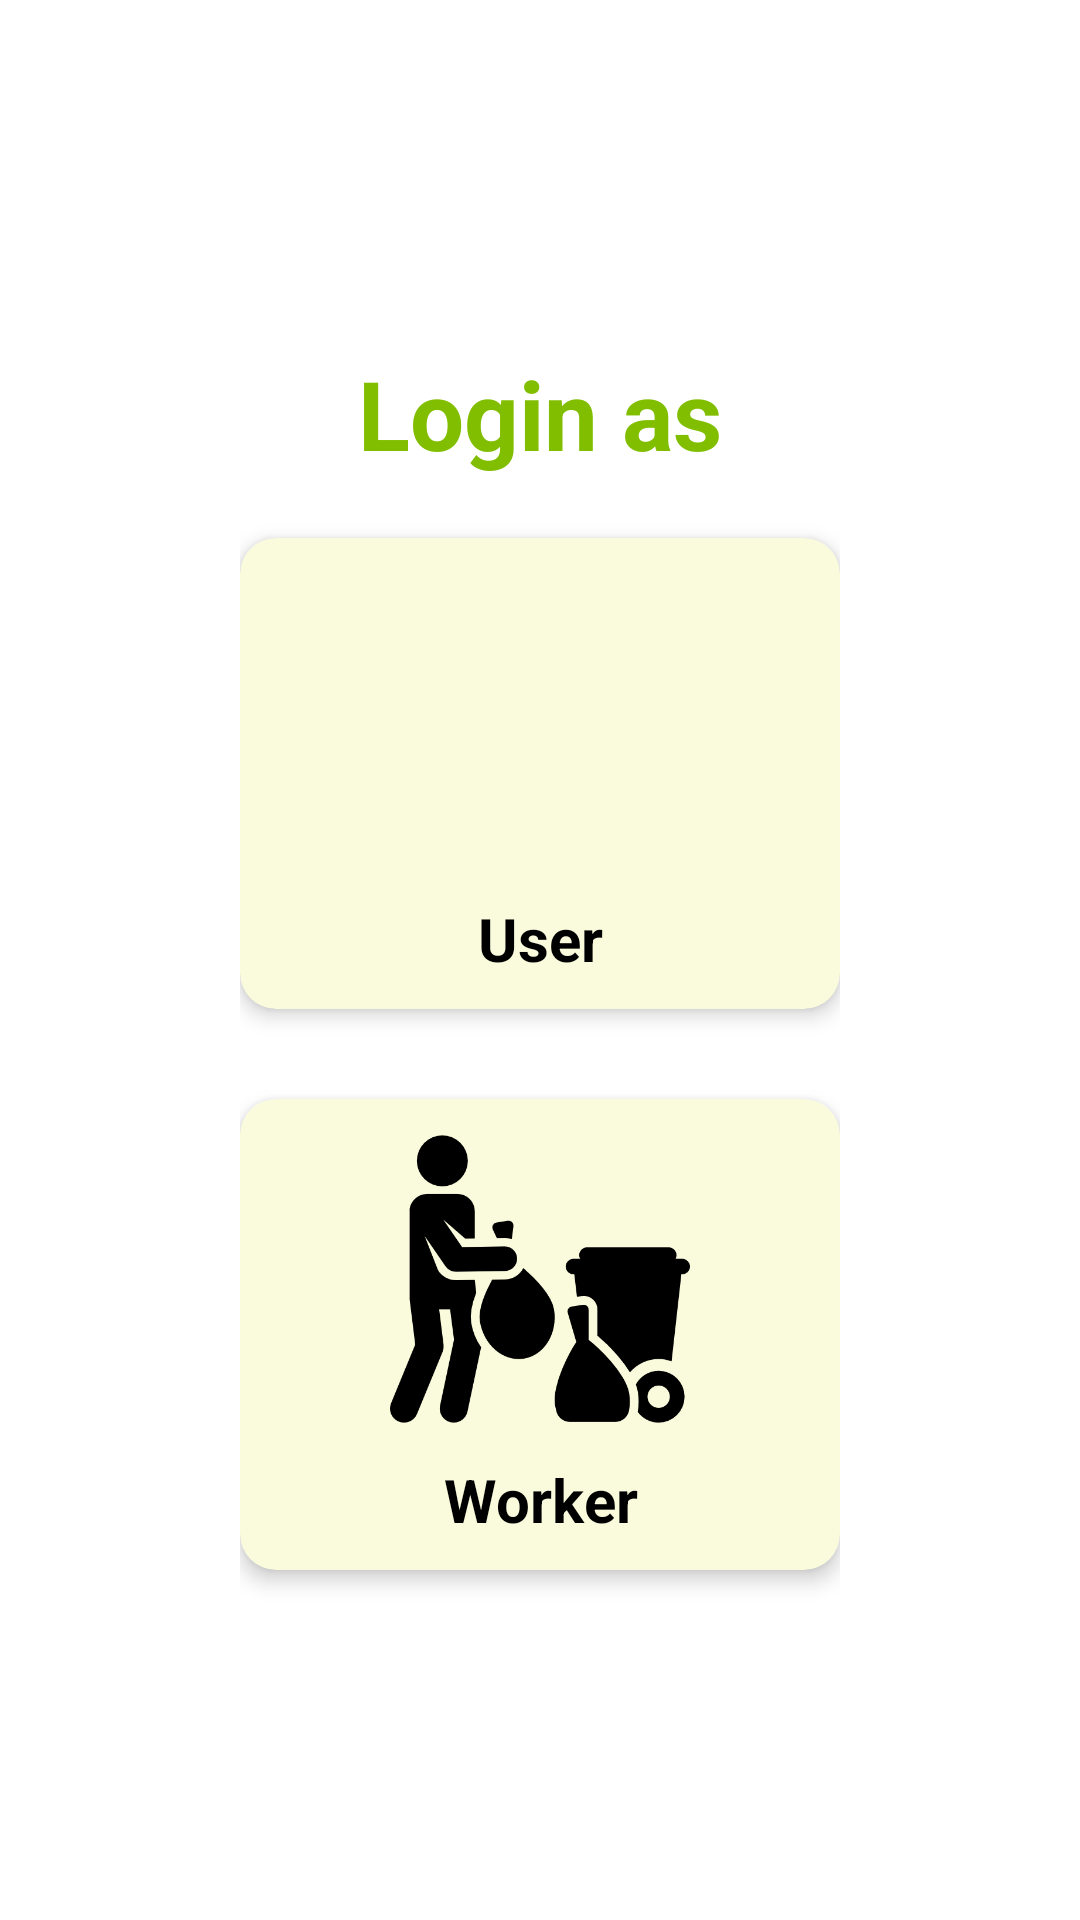

Where icons sit on this 1080px×1920px app screen, as (x1, y1, x2, y2):
collector: (390, 1135, 690, 1423)
